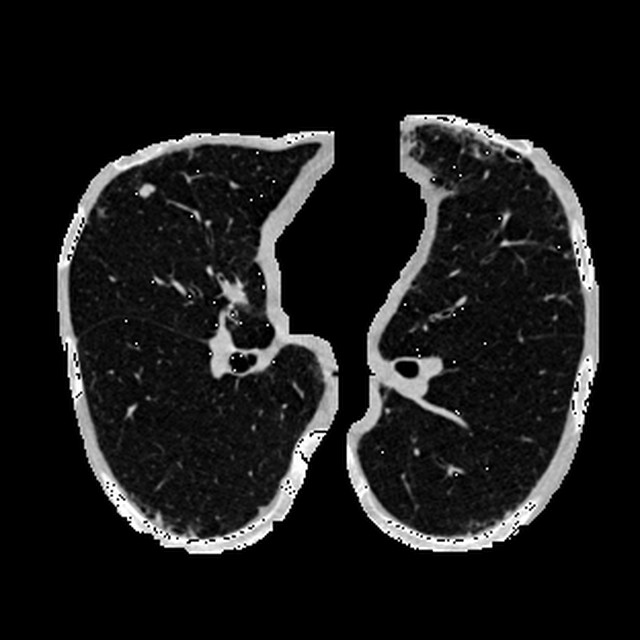PN: (137, 183, 154, 199)
